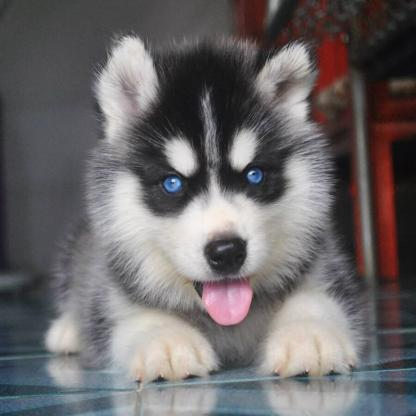dog: (47, 29, 363, 388)
